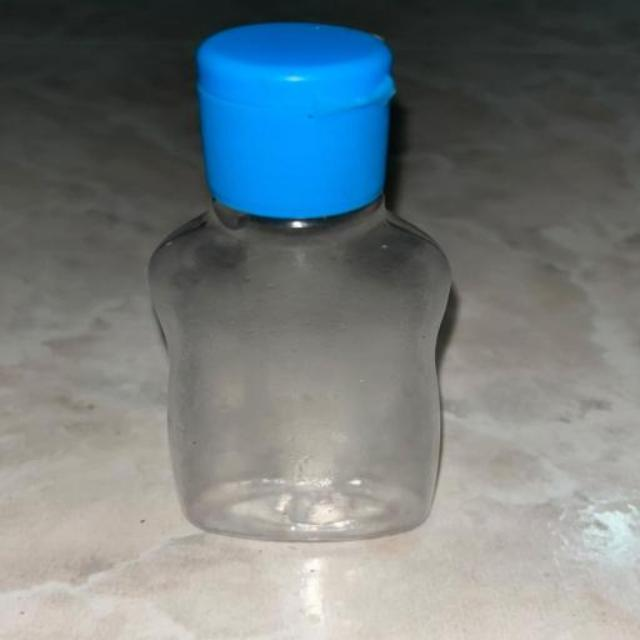PET: (75, 25, 558, 575)
